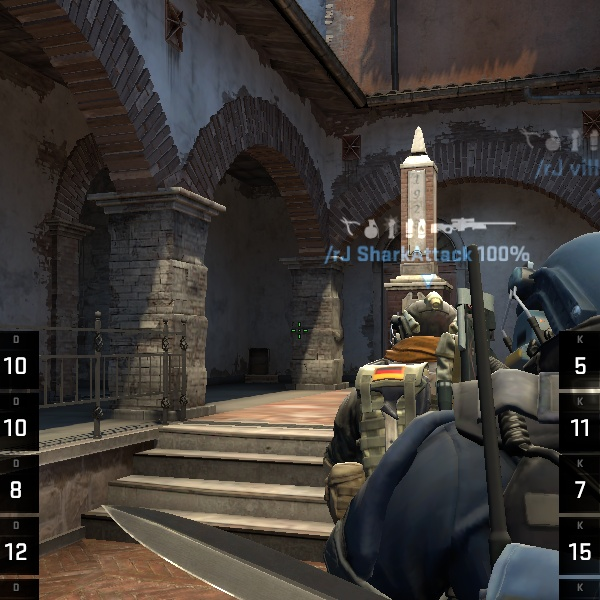ct_body: (322, 279, 562, 586)
